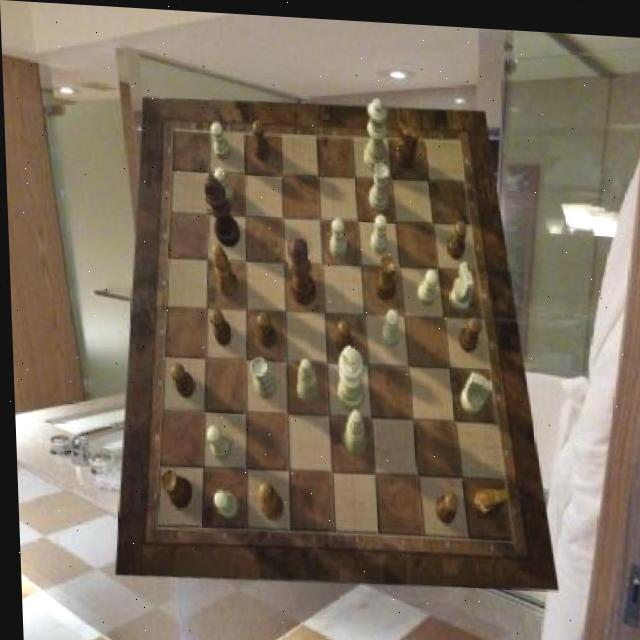bishop: (210, 240, 236, 295), (254, 479, 279, 518)
black-bishop: (201, 172, 239, 245)
black-king: (469, 480, 506, 515), (393, 118, 418, 167)
black-knight: (454, 310, 478, 347), (445, 216, 467, 255), (208, 306, 231, 343), (167, 360, 191, 395), (431, 487, 455, 521), (251, 116, 269, 159), (331, 315, 351, 352), (254, 310, 274, 347)
black-pawn: (285, 235, 314, 304)
black-queen: (155, 468, 188, 508), (371, 249, 394, 296)
black-rook: (292, 354, 316, 401), (340, 405, 363, 451)
white-bishop: (333, 341, 362, 408)
white-king: (456, 366, 491, 410), (447, 254, 473, 306)
white-knight: (203, 421, 228, 457), (414, 263, 437, 300), (209, 119, 230, 158), (378, 303, 398, 342), (368, 211, 387, 250), (213, 165, 233, 202), (327, 215, 345, 254), (209, 488, 234, 516)
white-pawn: (361, 92, 388, 168)
white-queen: (366, 160, 390, 209), (249, 354, 274, 397)
